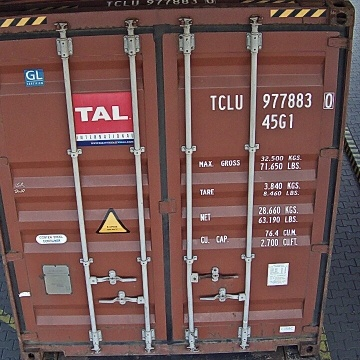serial_id: (210, 92, 334, 110)
